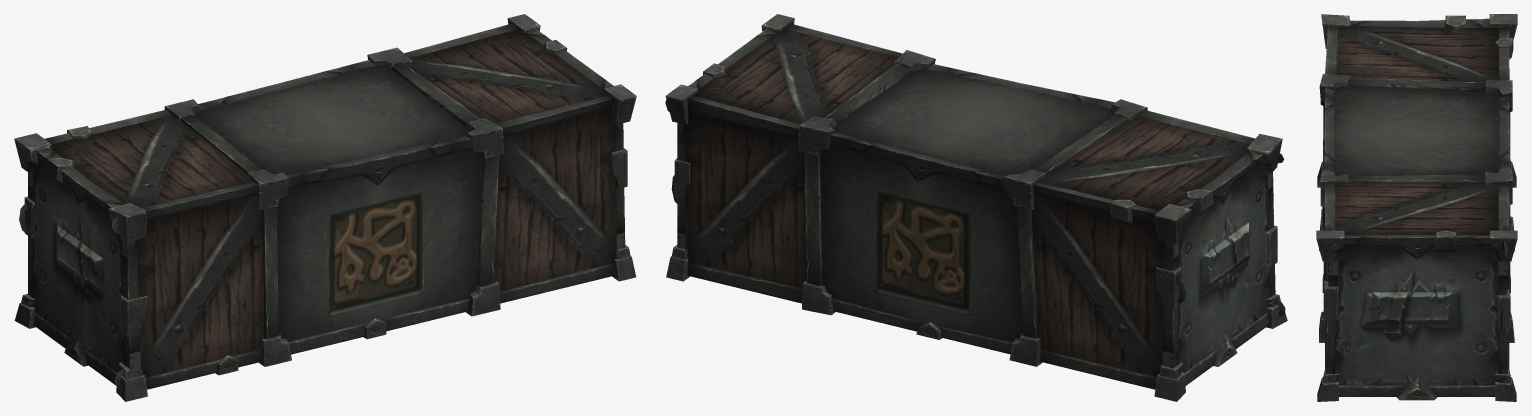
The model's file is SM_Plains_muxiang03.FBX.
3 views of the same model, side by side, from view 1: azimuth 30°, elevation 25°; view 2: azimuth 150°, elevation 25°; view 3: azimuth 270°, elevation 25° (orthographic). The views are drawn at different scales.
Visible parts, largest first — view 1: SM_Plains_muxiang03; view 2: SM_Plains_muxiang03; view 3: SM_Plains_muxiang03.
Part boxes in pixels (x1=…): SM_Plains_muxiang03: x1=14, y1=14, x2=636, y2=401; SM_Plains_muxiang03: x1=665, y1=14, x2=1287, y2=401; SM_Plains_muxiang03: x1=1316, y1=14, x2=1517, y2=401.
Bounding box in the file's own units: 252 × 84.51 × 93.6.
